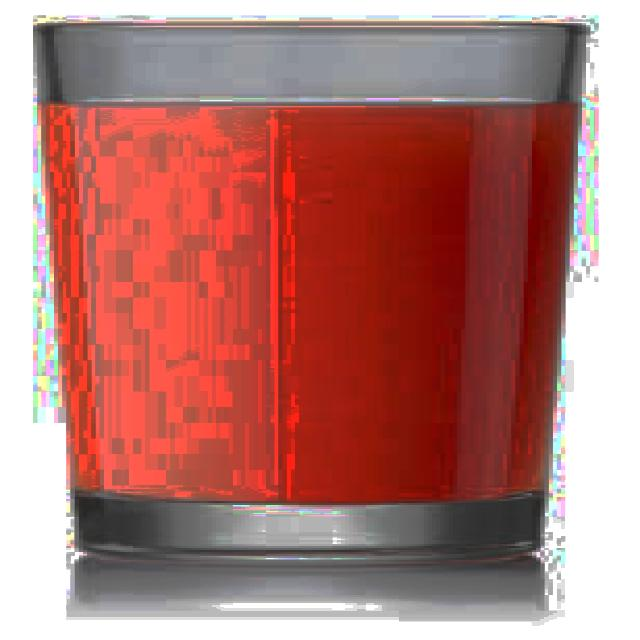drink: (29, 16, 594, 577)
